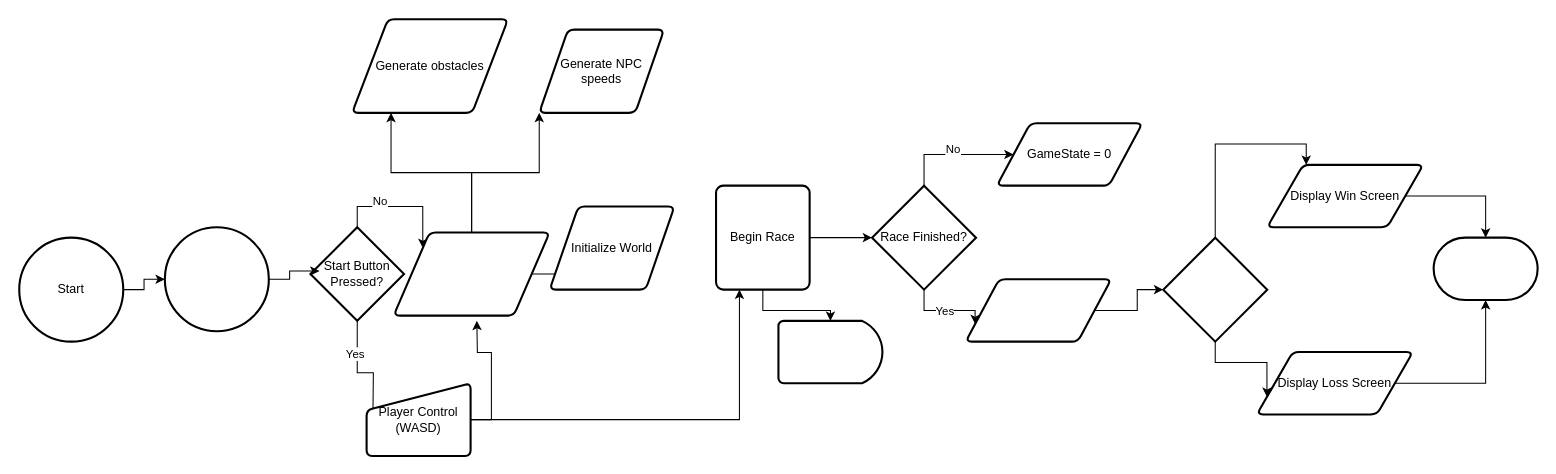
Some shapes in this 1556 by 474 pixel diagram are drawn without their labels. Here are the shapes that lost their labels. From the top down, the centre of each, then its label:
the point at 216,279: Title Screen
the point at 471,273: Create different Racer objects
the point at 1485,268: Terminate Program
the point at 1215,289: Race Wom?
the point at 1038,310: GameState = 1
the point at 830,351: Display 3, 2, 1 Count
